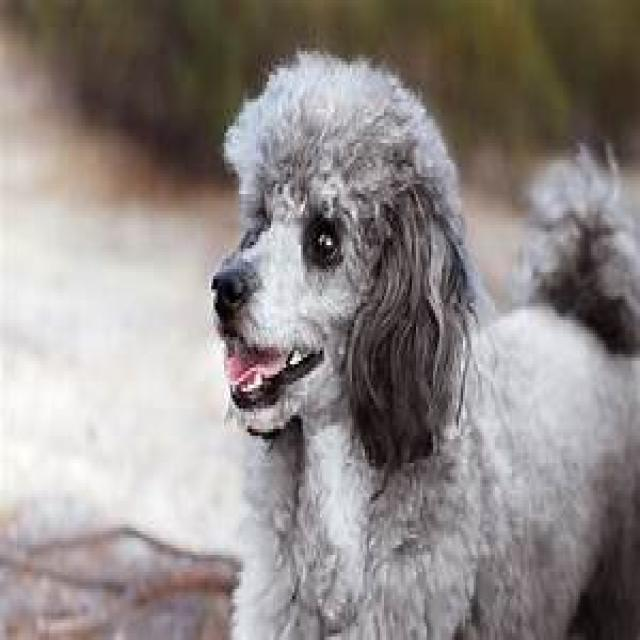animal: (207, 44, 638, 637)
